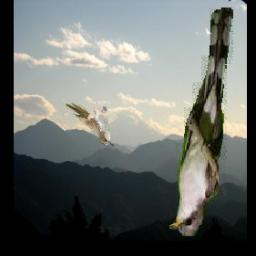Cuckoo: (168, 8, 233, 237), (65, 103, 115, 146)
